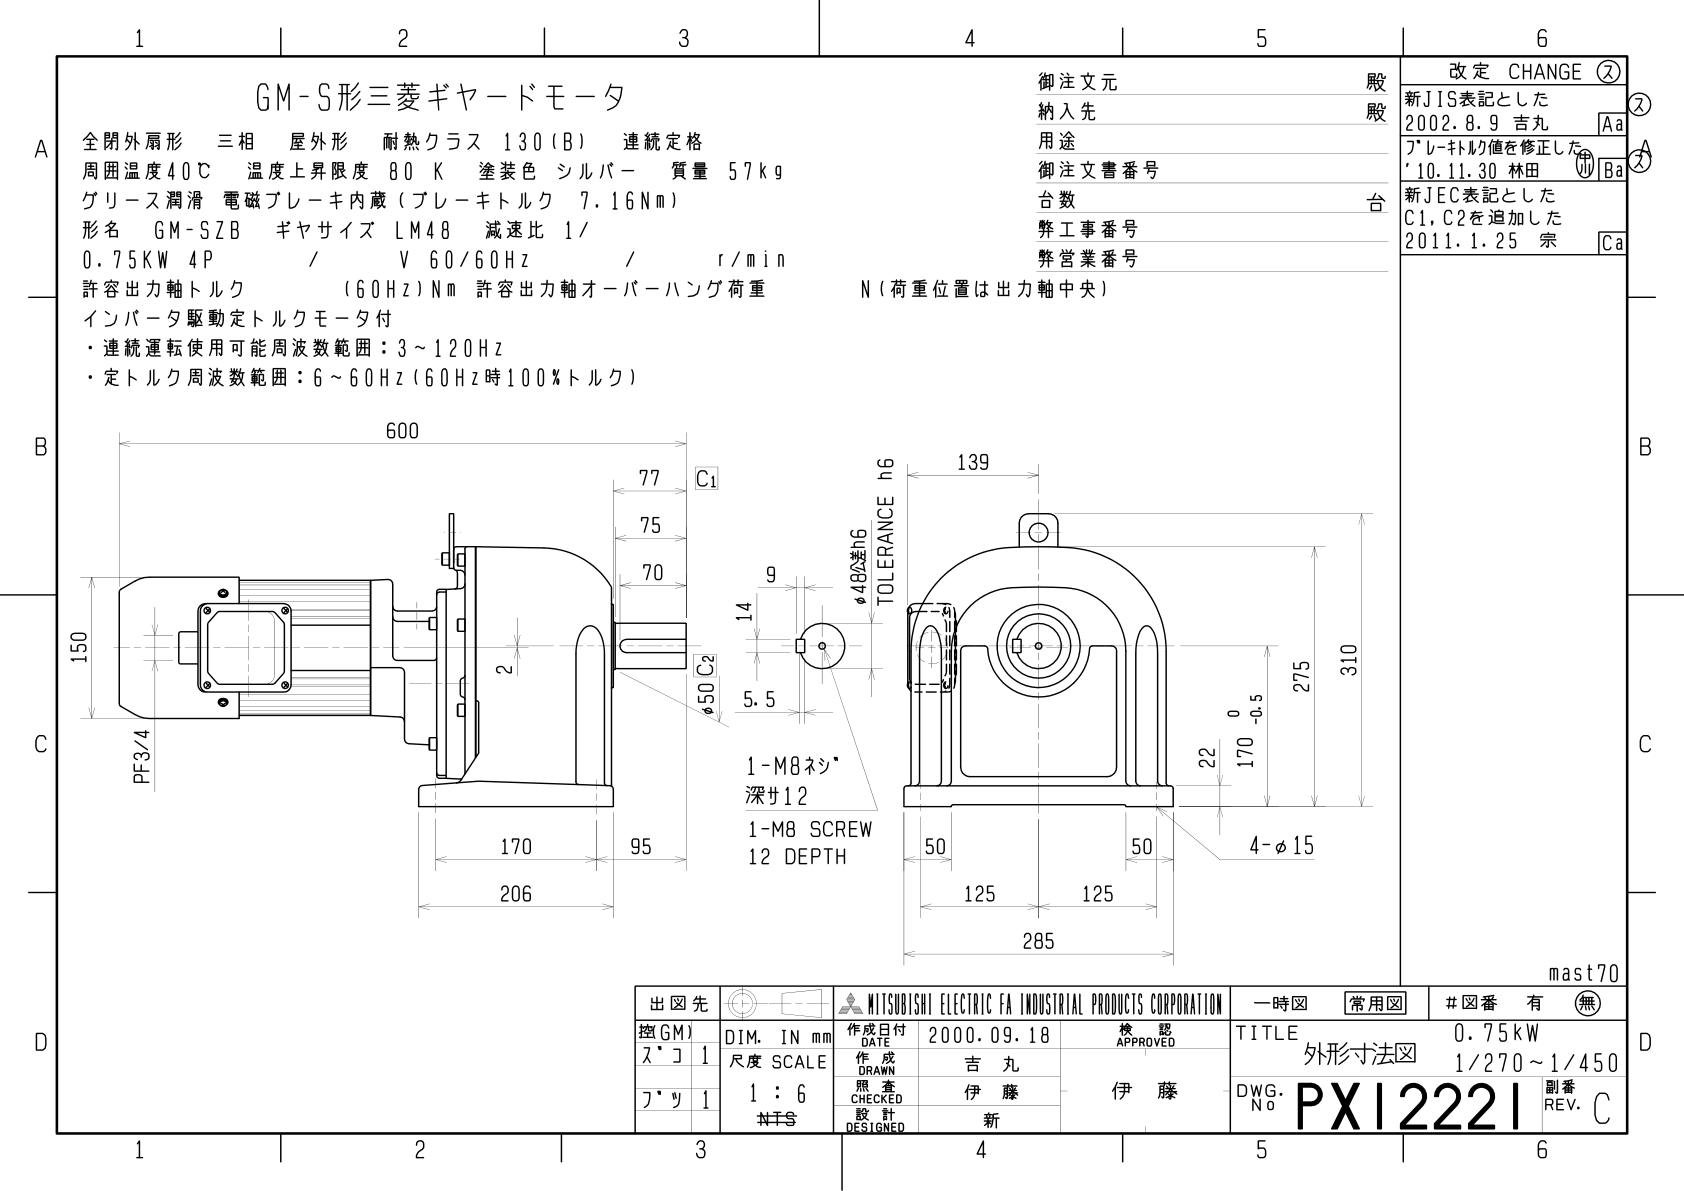GM_S_インバタ屋外＿三相_脚: (67, 403, 1385, 973)
